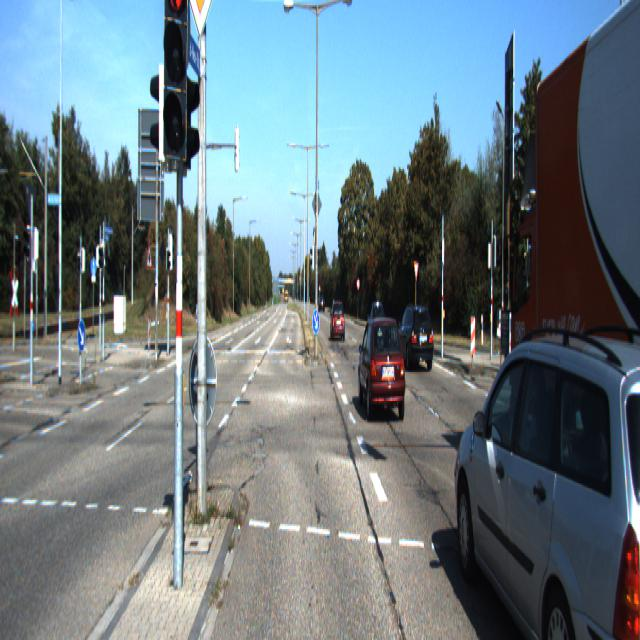Car: (500, 0, 640, 572), (453, 323, 640, 638), (358, 313, 406, 426), (396, 302, 435, 374), (366, 300, 386, 346), (330, 300, 345, 342)
